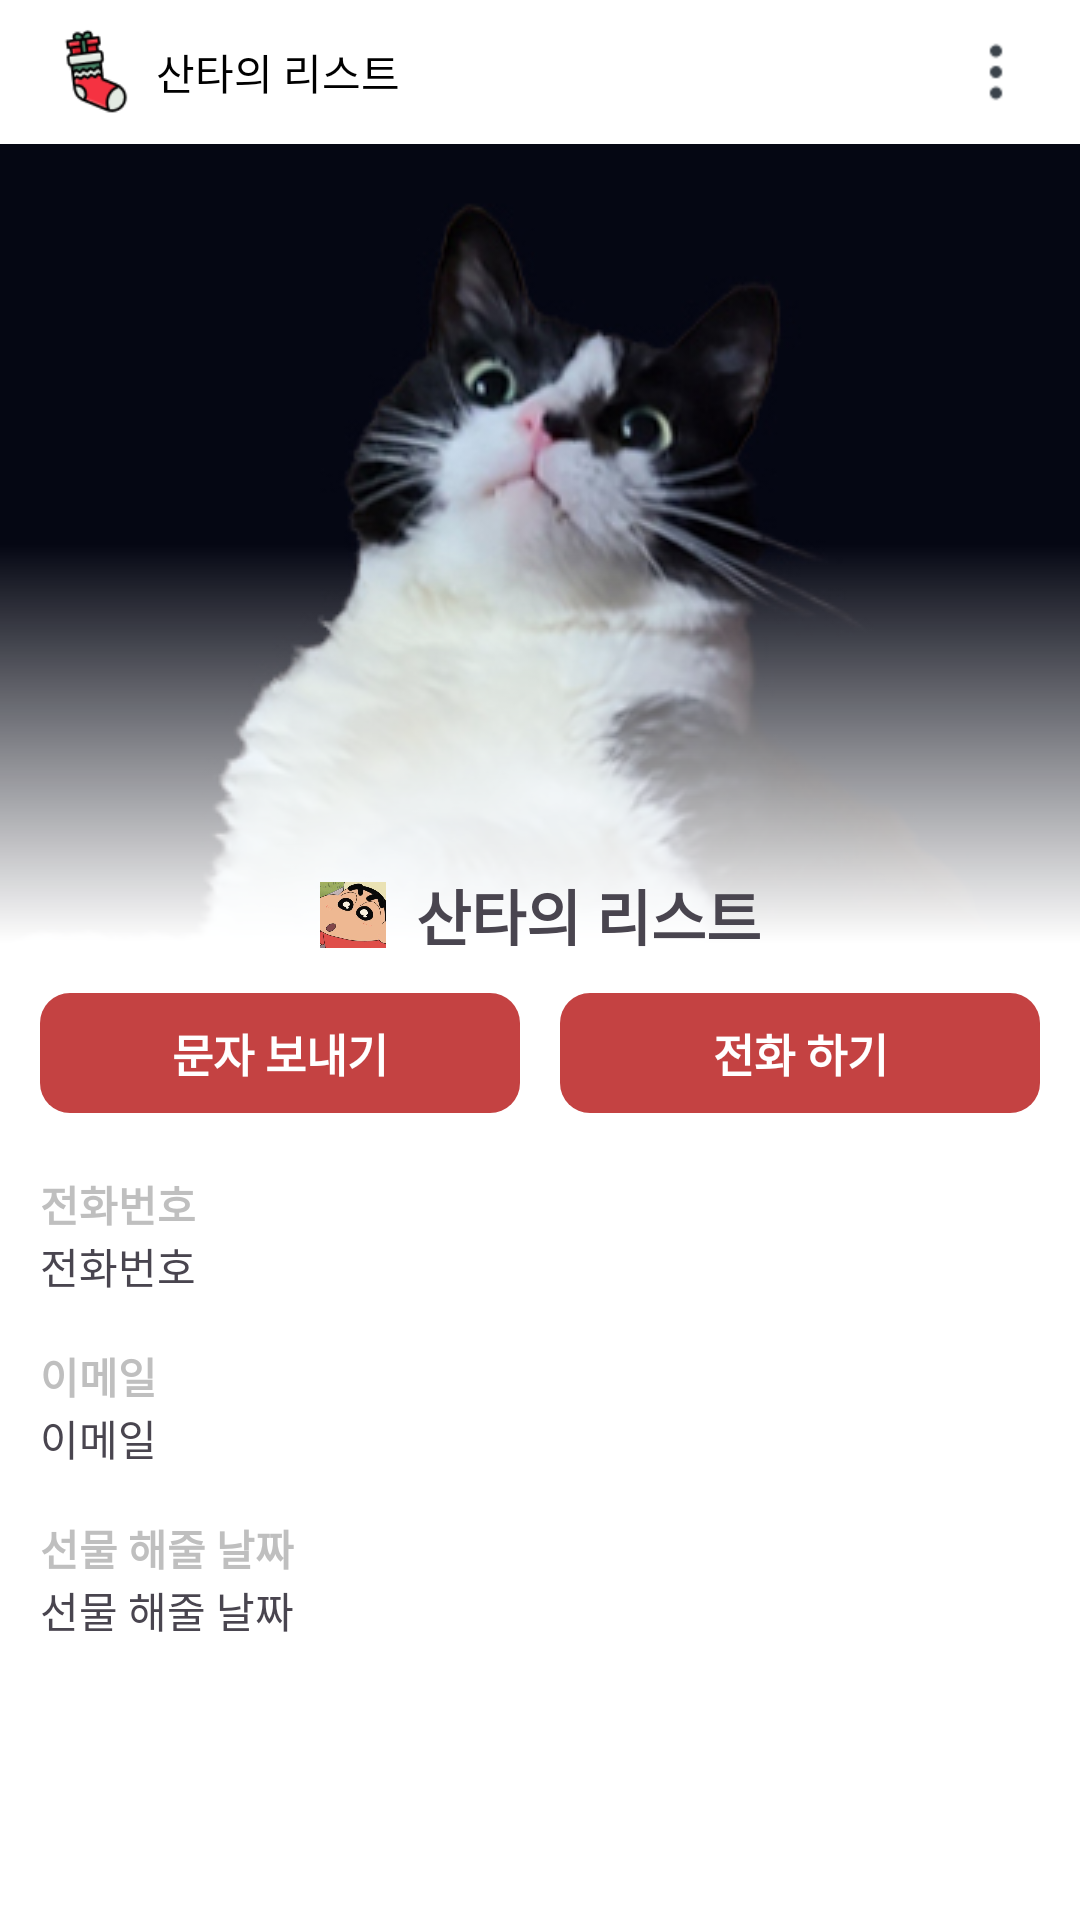

Where to tap for icons on this 1080 × 1920 app screen, as (x=x, y=y):
action: (x=996, y=72)
